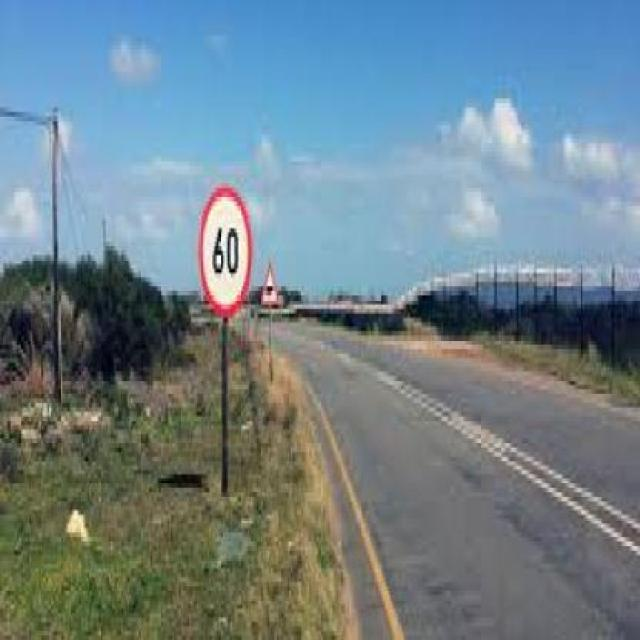forb_speed_over_60: (200, 192, 249, 315)
